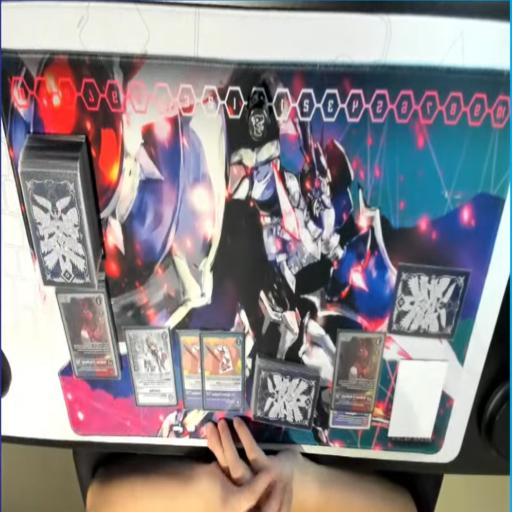card: (56, 286, 119, 380), (330, 330, 386, 412), (200, 334, 248, 417), (124, 327, 172, 409), (176, 331, 207, 416), (328, 406, 374, 430)
